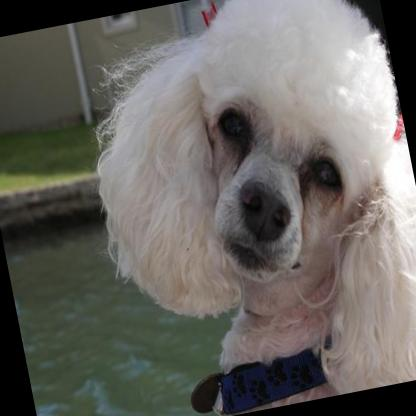toy_poodle: (62, 0, 416, 416)
